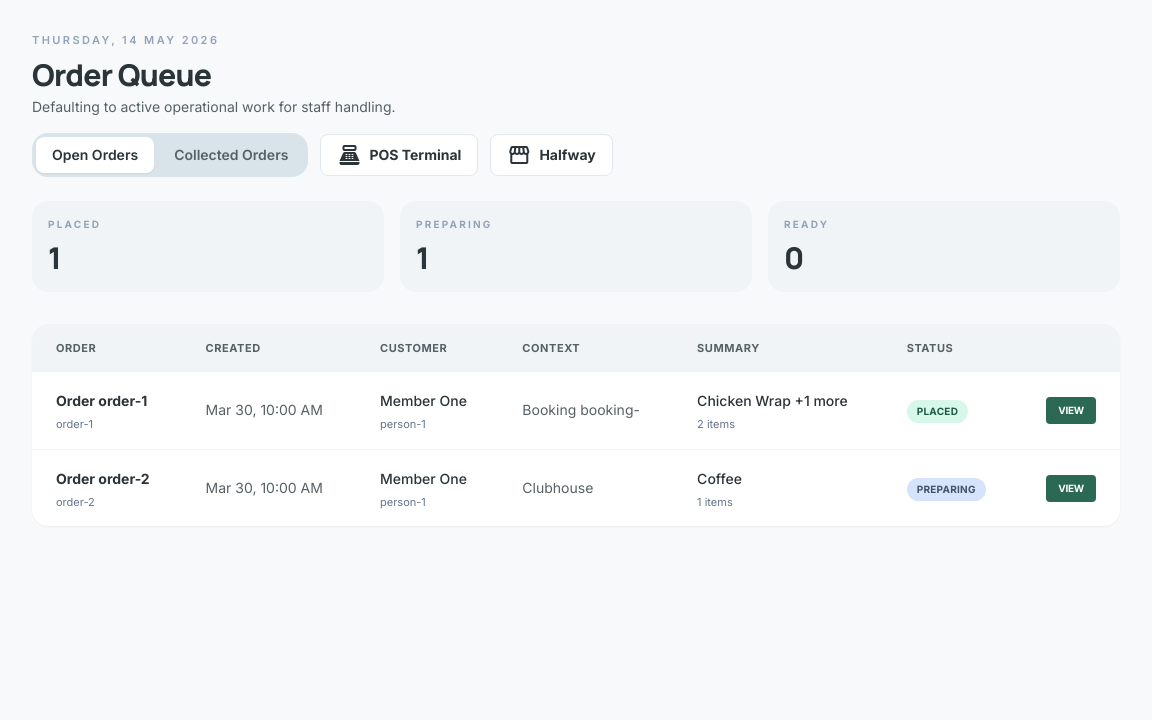
Test: AdminOrderQueuePage › shows only the valid next action for a preparing order
Click the button with aria-label "open order order-1": (1071, 411) [1046,397,1096,424]
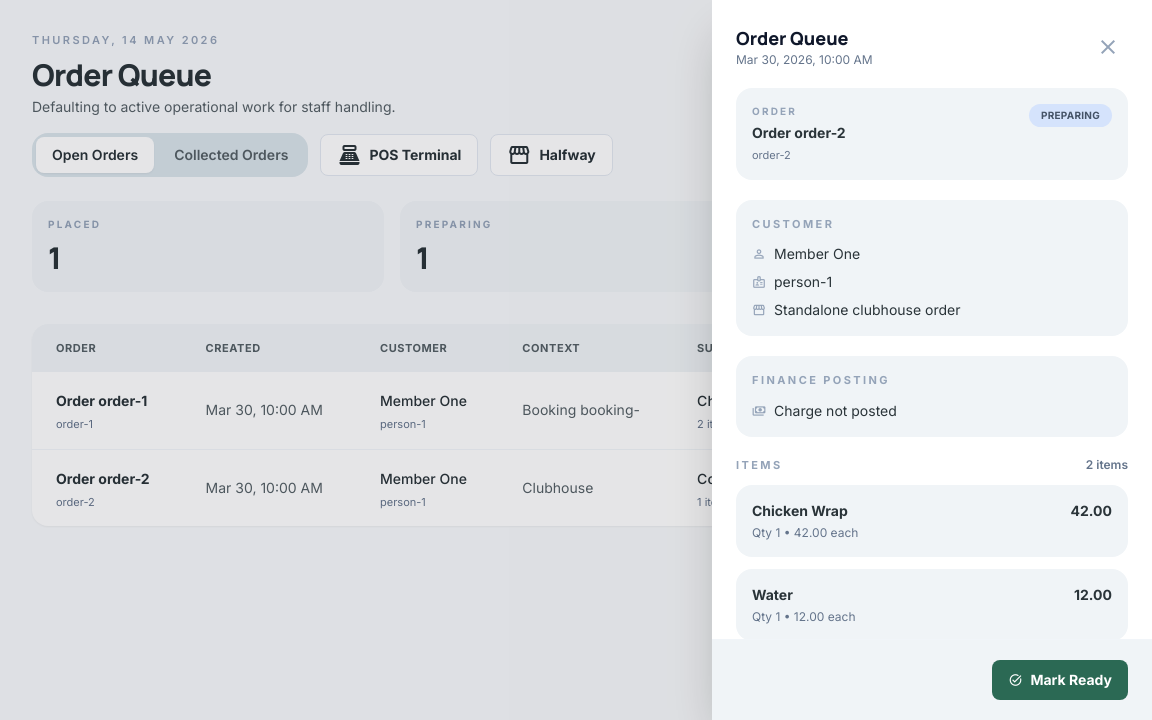
Expected: the button "Mark Ready" is shown, [992,660,1128,700]
